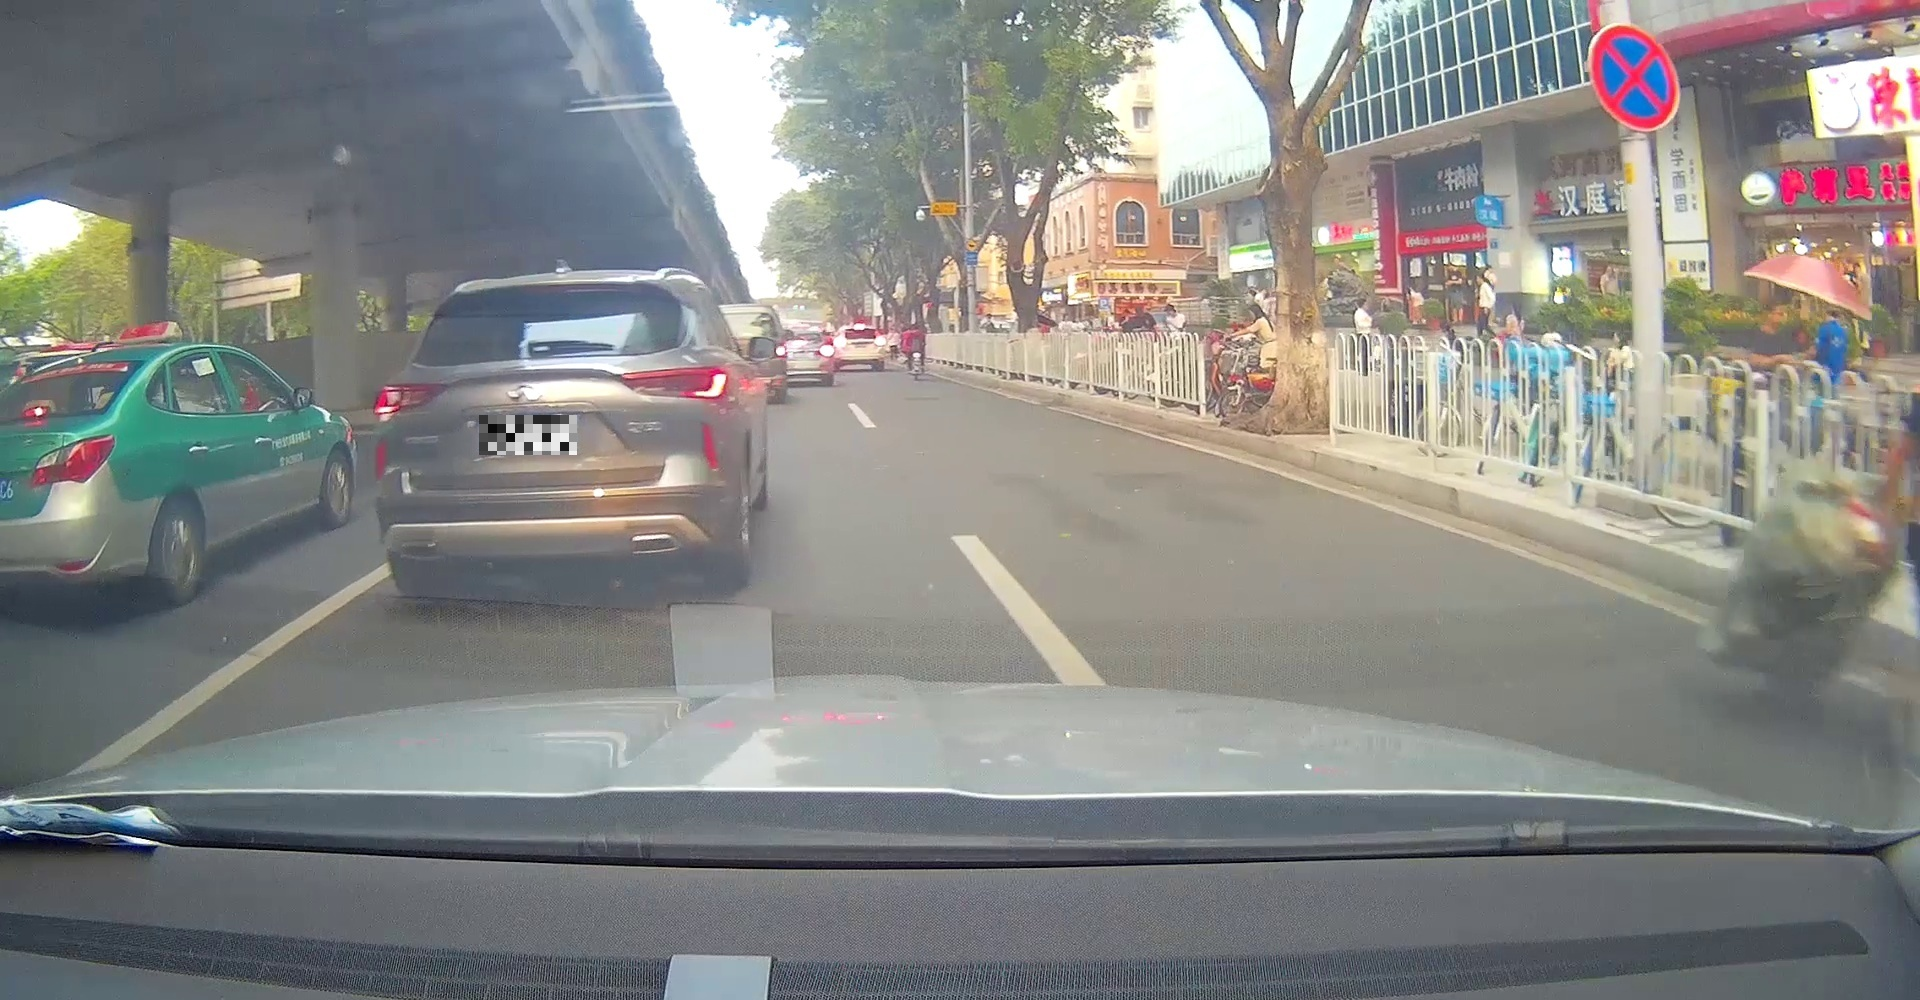L_light: (375, 385, 447, 414), (833, 338, 848, 344)
R_light: (621, 365, 728, 398), (874, 338, 886, 344)
T_light: (549, 284, 596, 292), (853, 325, 865, 327)
day-brake: (832, 324, 886, 371)
day-no: (375, 268, 731, 600)
plate_1: (479, 415, 577, 456)
